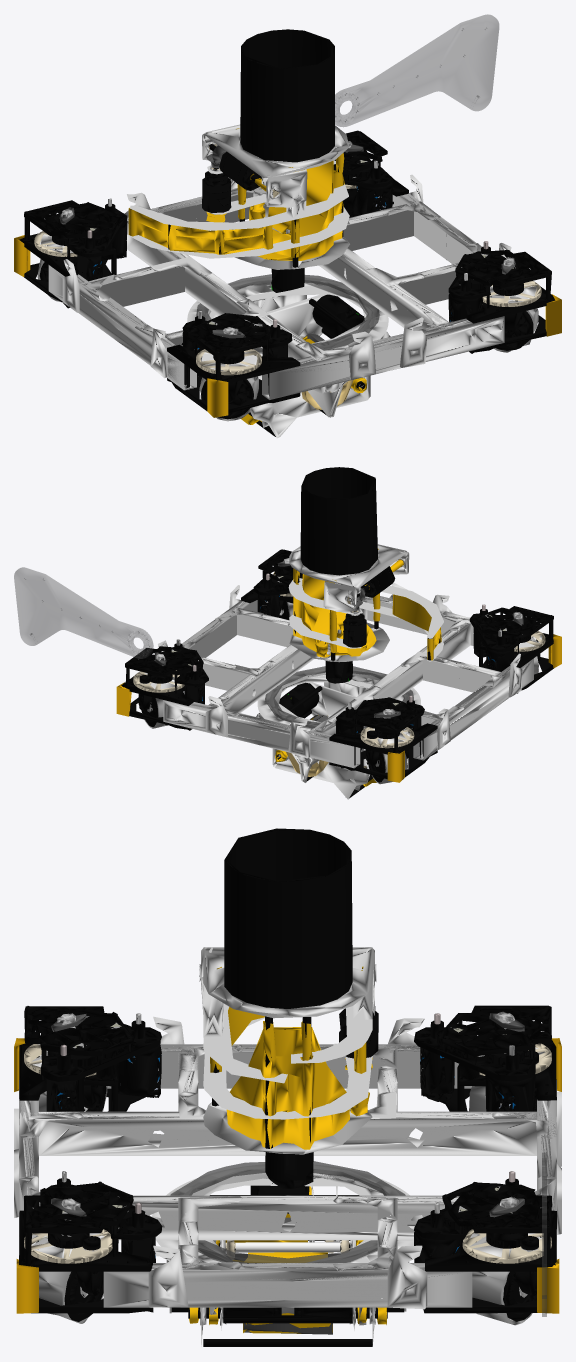
The picture shows the model from 3 angles, top to bottom: view 1: azimuth 30°, elevation 25°; view 2: azimuth 150°, elevation 25°; view 3: azimuth 270°, elevation 25°; orthographic projection. The views are drawn at different scales.
Parts seen in each view (by area): view 1: Bumper Mount 3/16, Kraken X60 Brushless Motor, Arm Plate, 1" 0.375 Hex Spacer, WCP Swerve X2 (88t Rotation Gear) (WCP-1712), Spectrum Corner Mount, Upper Bearing, Kraken X44 Brushless Motor; view 2: Bumper Mount 3/16, Kraken X60 Brushless Motor, Arm Plate, 1" 0.375 Hex Spacer, WCP Swerve X2 (88t Rotation Gear) (WCP-1712), Spectrum Corner Mount, Upper Bearing, Kraken X44 Brushless Motor; view 3: Kraken X60 Brushless Motor, Bumper Mount 3/16, 1" 0.375 Hex Spacer, WCP Swerve X2 (88t Rotation Gear) (WCP-1712), Upper Bearing, Kraken X44 Brushless Motor, Spectrum Corner Mount, Arm Plate, CTR CANcoder (WCP-1484-002).
Boxes of the visible parts, x1,y1,x2,y2 form: Bumper Mount 3/16: [48, 124, 511, 438]; Kraken X60 Brushless Motor: [19, 29, 555, 436]; Arm Plate: [335, 14, 498, 126]; 1" 0.375 Hex Spacer: [128, 128, 366, 424]; WCP Swerve X2 (88t Rotation Gear) (WCP-1712): [34, 177, 541, 387]; Spectrum Corner Mount: [14, 235, 561, 417]; Upper Bearing: [196, 274, 379, 352]; Kraken X44 Brushless Motor: [37, 151, 538, 421]; Bumper Mount 3/16: [158, 544, 533, 799]; Kraken X60 Brushless Motor: [121, 467, 553, 798]; Arm Plate: [14, 567, 153, 658]; 1" 0.375 Hex Spacer: [275, 548, 441, 786]; WCP Swerve X2 (88t Rotation Gear) (WCP-1712): [133, 574, 545, 756]; Spectrum Corner Mount: [116, 572, 561, 782]; Upper Bearing: [265, 666, 413, 728]; Kraken X44 Brushless Motor: [140, 573, 538, 784]; Kraken X60 Brushless Motor: [19, 828, 556, 1346]; Bumper Mount 3/16: [14, 947, 561, 1346]; 1" 0.375 Hex Spacer: [189, 966, 386, 1333]; WCP Swerve X2 (88t Rotation Gear) (WCP-1712): [24, 1043, 551, 1263]; Upper Bearing: [170, 1161, 405, 1262]; Kraken X44 Brushless Motor: [39, 1013, 538, 1325]; Spectrum Corner Mount: [14, 1038, 561, 1313]; Arm Plate: [542, 1153, 546, 1316]; CTR CANcoder (WCP-1484-002): [57, 1011, 518, 1210].
Size of the model in its own units: 0.9572 by 0.6795 by 0.6986.
